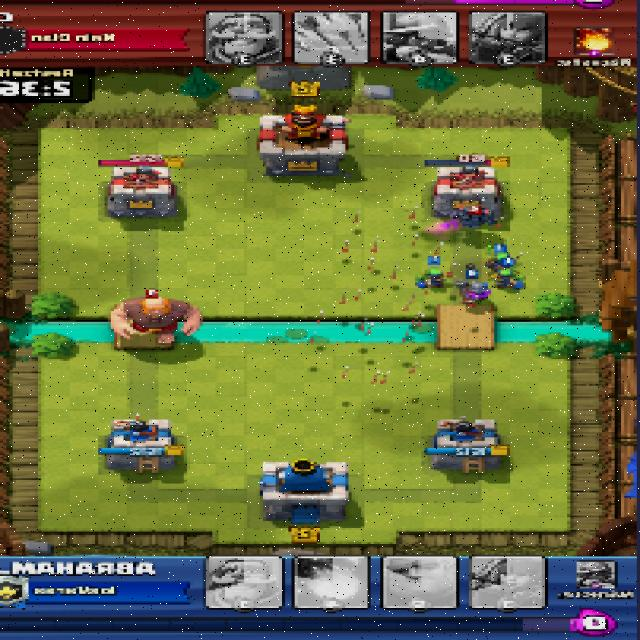Enemy-Giant: (108, 295, 207, 343)
Enemy-MiniPEKKA: (451, 208, 499, 228)
Player-Arrow: (324, 210, 436, 408)
Player-Musketeer: (456, 277, 491, 307)
Player-SpearGoblin: (414, 267, 451, 290), (492, 269, 526, 289), (486, 251, 520, 269)
